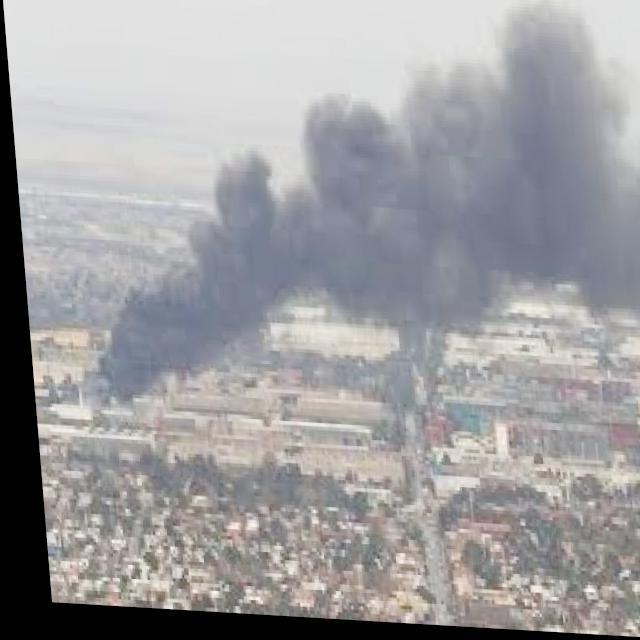Smoke: (54, 0, 640, 470)
